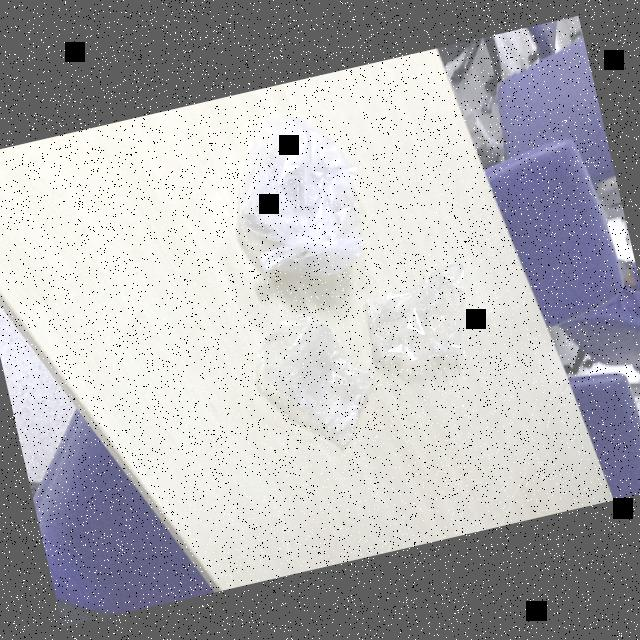plastic_bag: (204, 100, 392, 286)
scrap_plastic: (238, 295, 386, 464), (354, 247, 496, 401)
